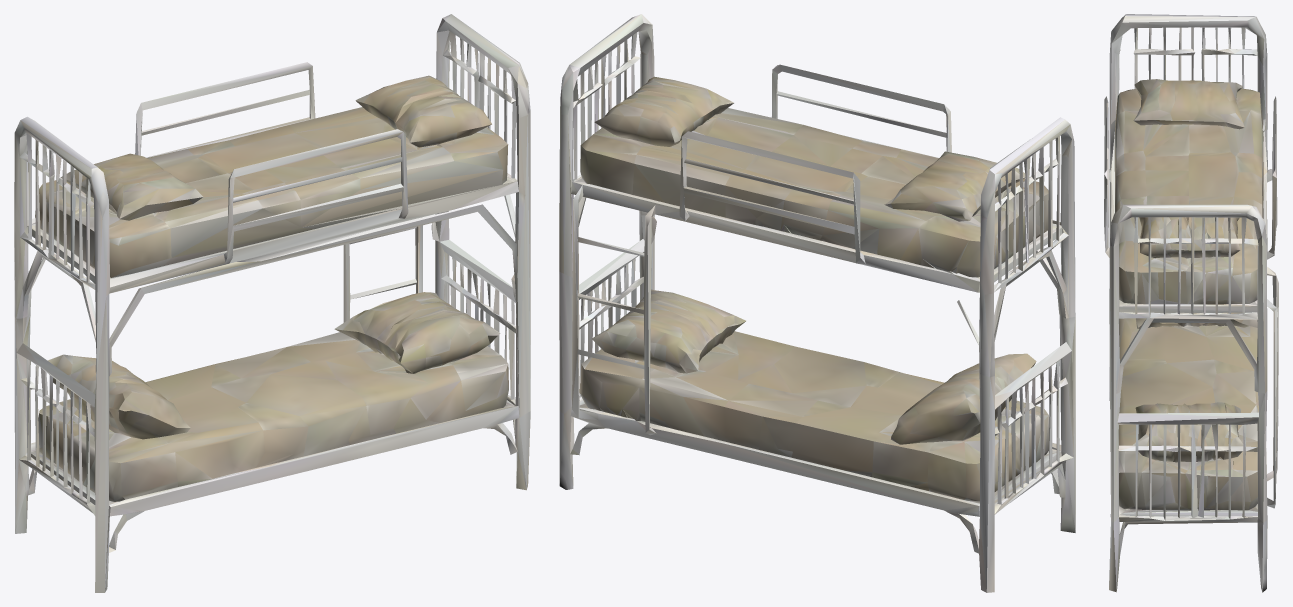
File: mj-bunk-steel-3rd.lod1.glb
3 views of the same model, side by side, from view 1: azimuth 30°, elevation 25°; view 2: azimuth 150°, elevation 25°; view 3: azimuth 270°, elevation 25° (orthographic). The views are drawn at different scales.
Visible parts, largest first — view 1: mj-bunk-steel-3rd; view 2: mj-bunk-steel-3rd; view 3: mj-bunk-steel-3rd.
Part boxes in pixels (bbox=[...]): mj-bunk-steel-3rd: bbox=[14, 14, 530, 592]; mj-bunk-steel-3rd: bbox=[559, 14, 1075, 592]; mj-bunk-steel-3rd: bbox=[1104, 14, 1278, 592].
Size of the model in its own units: 1.9 by 1.75 by 0.7183.
1 material, 1 textured.
